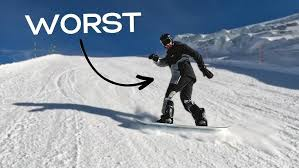snowboard: (130, 115, 232, 133)
